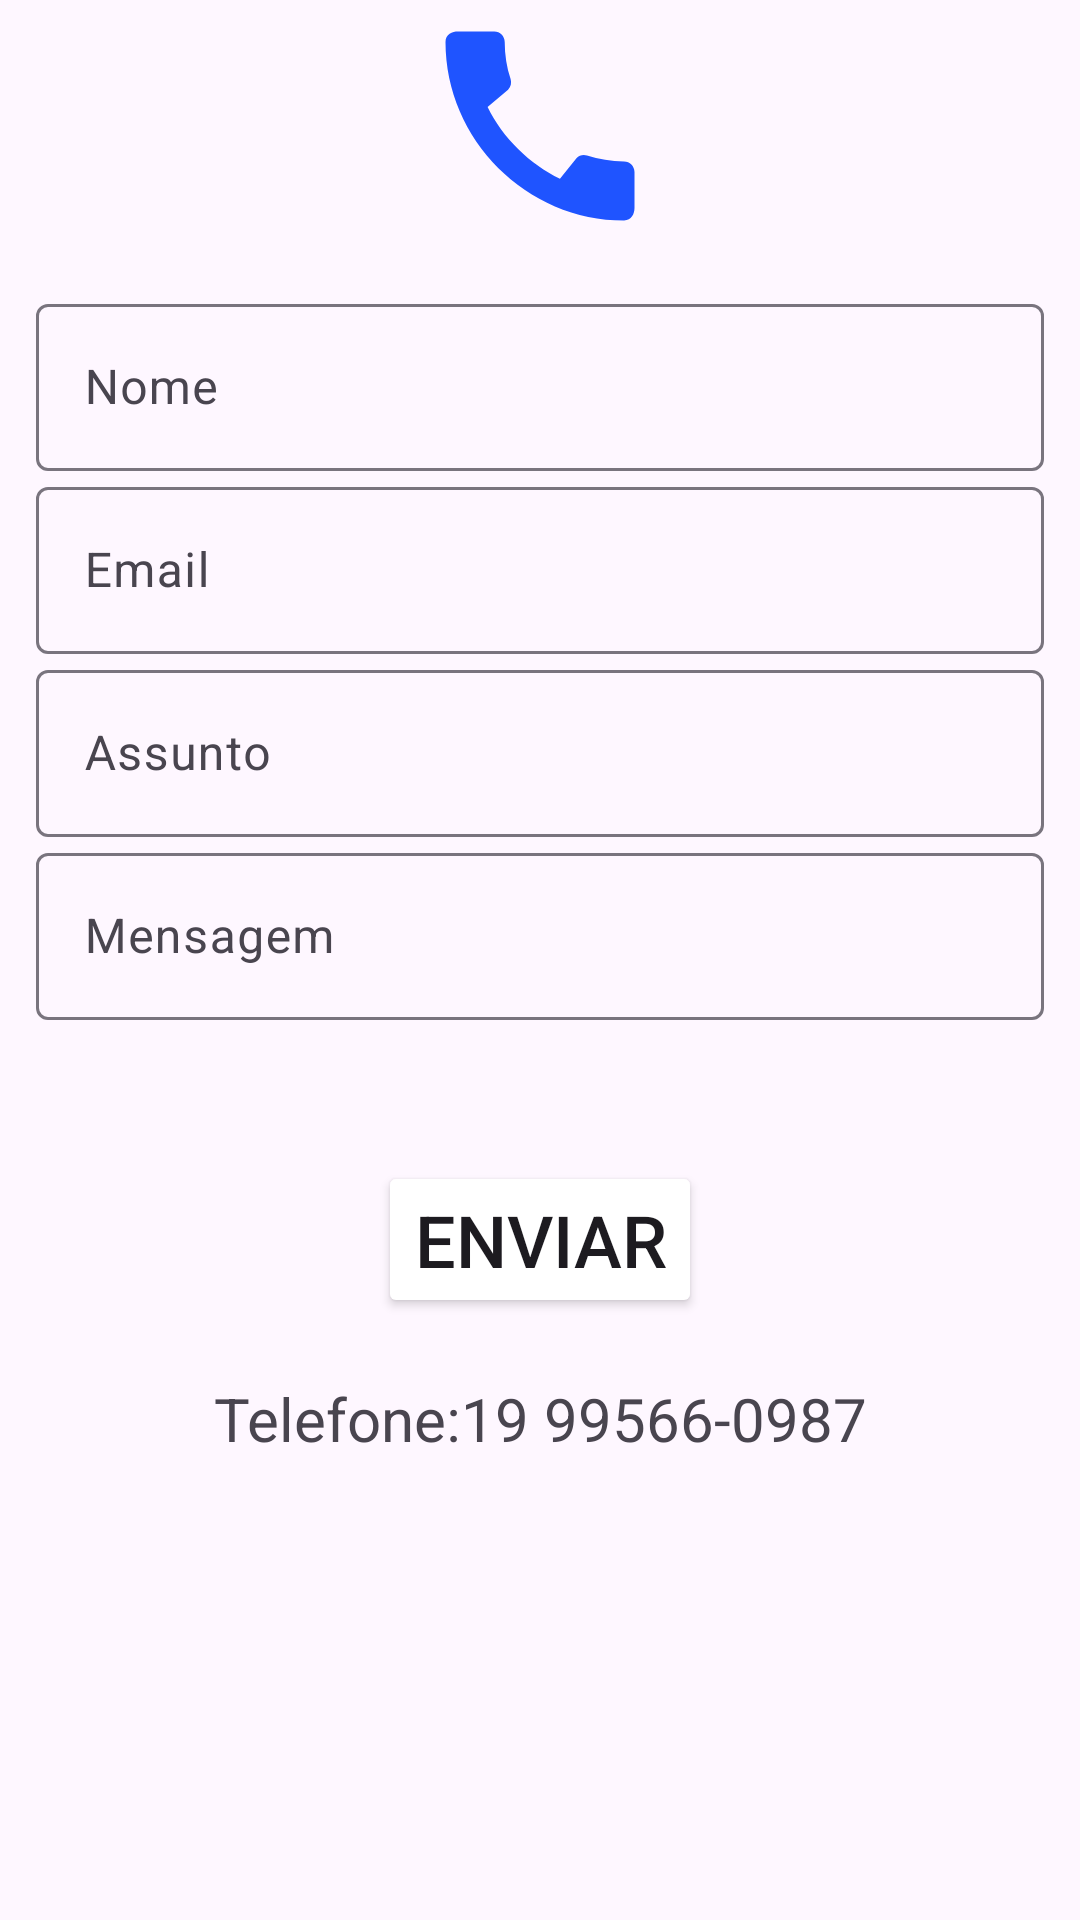

Icon bounding boxes for this 1080 x 1920 phone screenshot, format bbox(x1, y1, x2, y2):
call: bbox(445, 31, 635, 221)
